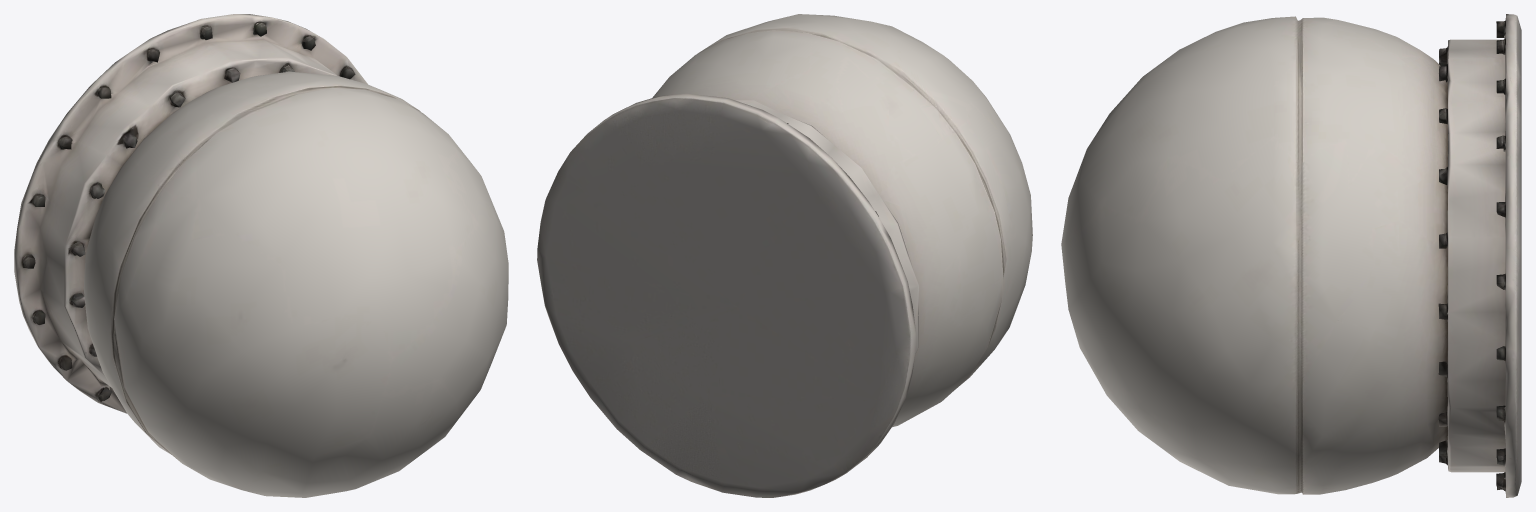
Rendered from dome.glb.
3 views of the same model, side by side, from view 1: azimuth 30°, elevation 25°; view 2: azimuth 150°, elevation 25°; view 3: azimuth 270°, elevation 25° (orthographic). The views are drawn at different scales.
Parts seen in each view (by area): view 1: tripo_node_f99f9701-ef9a-4a3e-a5f6-5d24ca4a1047; view 2: tripo_node_f99f9701-ef9a-4a3e-a5f6-5d24ca4a1047; view 3: tripo_node_f99f9701-ef9a-4a3e-a5f6-5d24ca4a1047.
Boxes of the visible parts, x1,y1,x2,y2 form: tripo_node_f99f9701-ef9a-4a3e-a5f6-5d24ca4a1047: (14,14,508,497); tripo_node_f99f9701-ef9a-4a3e-a5f6-5d24ca4a1047: (537,14,1032,497); tripo_node_f99f9701-ef9a-4a3e-a5f6-5d24ca4a1047: (1061,14,1521,497).
Size of the model in its own units: 2.5 by 2.5 by 2.36.
1 material, 1 textured.
